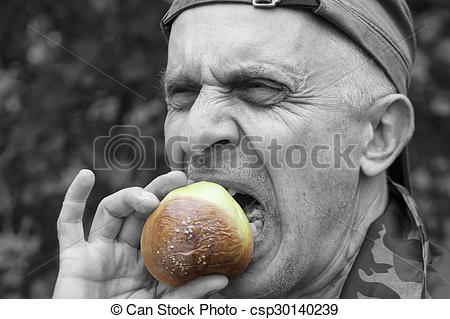eating: (54, 3, 441, 289)
